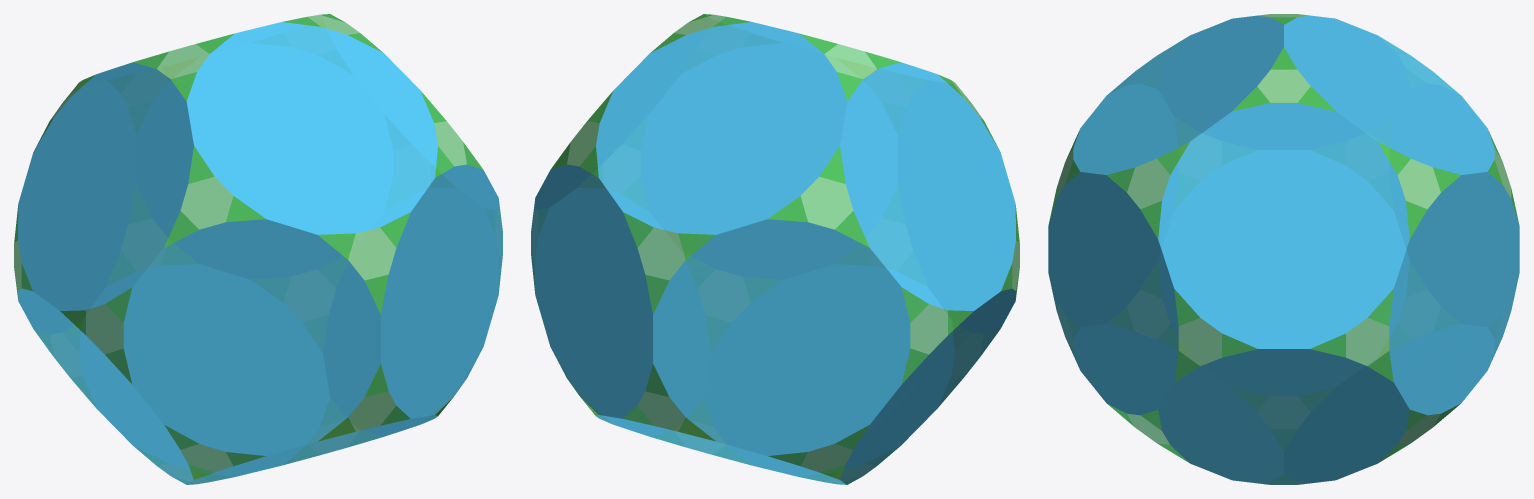
The model's file is BiTruncatedDodecahedron.obj.
The picture shows the model from 3 angles, left to right: view 1: azimuth 30°, elevation 25°; view 2: azimuth 150°, elevation 25°; view 3: azimuth 270°, elevation 25°; orthographic projection. The views are drawn at different scales.
Size of the model in its own units: 2 by 2 by 2.
